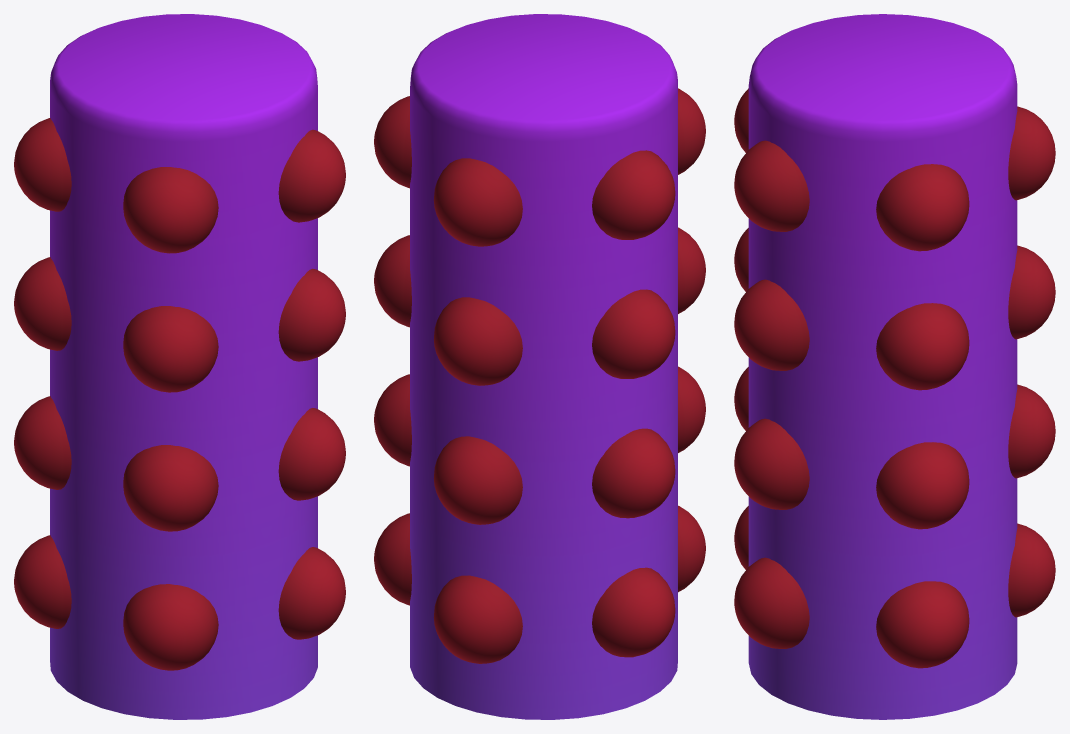
The model's file is Obs_11.fbx.
The picture shows the model from 3 angles, left to right: view 1: azimuth 30°, elevation 25°; view 2: azimuth 150°, elevation 25°; view 3: azimuth 270°, elevation 25°; orthographic projection.
Visible parts, largest first — view 1: Obs_11_Base_01, Obs_11_Base; view 2: Obs_11_Base_01, Obs_11_Base; view 3: Obs_11_Base_01, Obs_11_Base.
Boxes of the visible parts, <box> form: Obs_11_Base_01: <box>50,14,317,719</box>; Obs_11_Base: <box>14,118,345,670</box>; Obs_11_Base_01: <box>410,14,677,719</box>; Obs_11_Base: <box>374,88,705,663</box>; Obs_11_Base_01: <box>748,14,1017,719</box>; Obs_11_Base: <box>734,88,1055,668</box>.
Bounding box in the file's own units: 1.02 × 2.01 × 0.9817.
